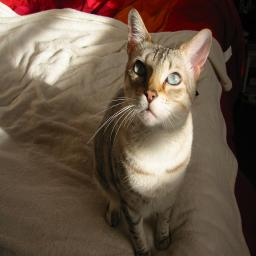catnose: (143, 86, 159, 105)
